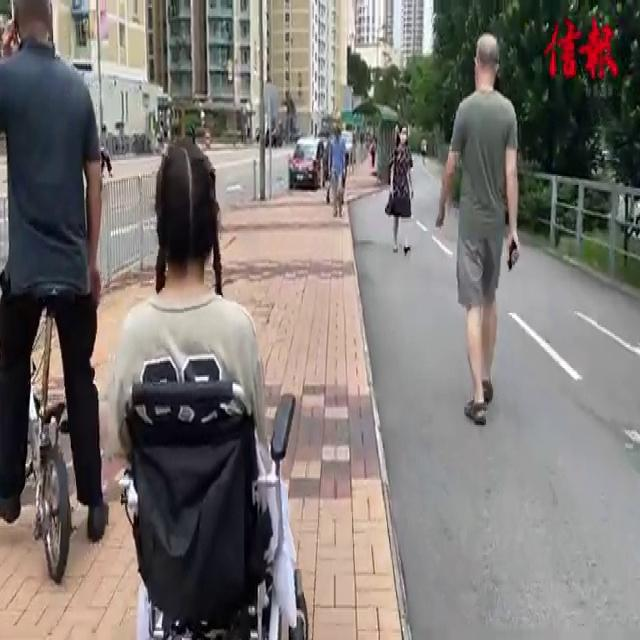wheelchairs: (102, 355, 320, 640)
